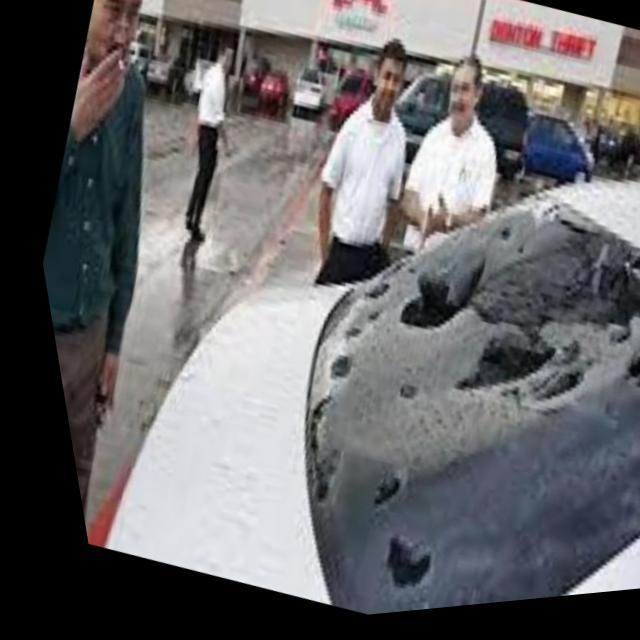glass shatter: (287, 212, 640, 620)
